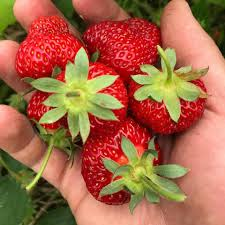ripe: (76, 117, 166, 209), (50, 62, 132, 134), (126, 65, 209, 135), (82, 18, 162, 75), (15, 30, 89, 84), (20, 83, 80, 142)
unripe: (27, 14, 74, 44)
